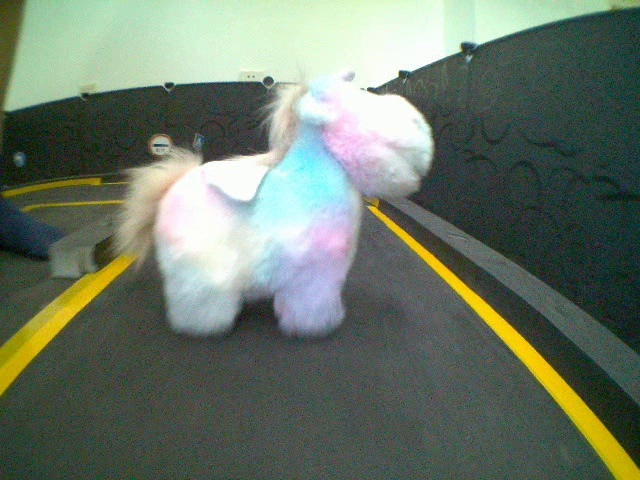unicorn: (104, 69, 438, 342)
